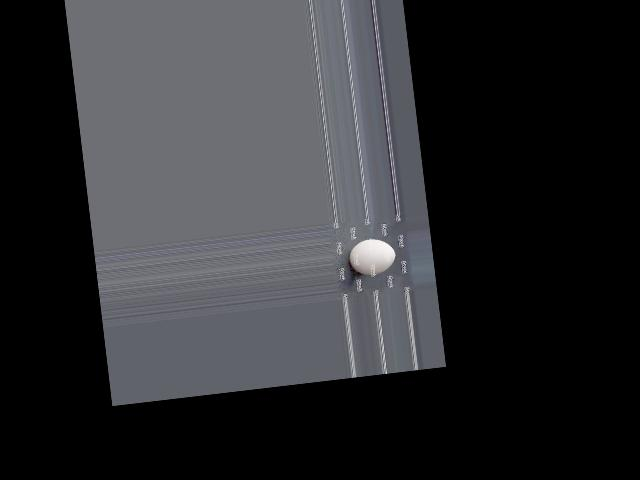egg: (347, 237, 397, 277)
